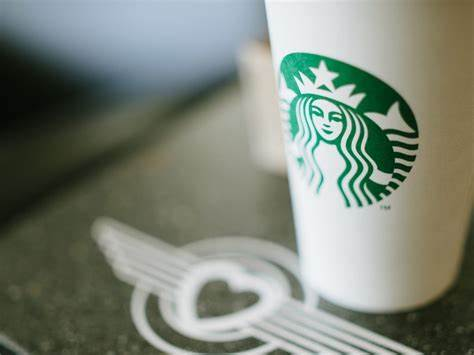starbucks Originale: (274, 46, 425, 227)
